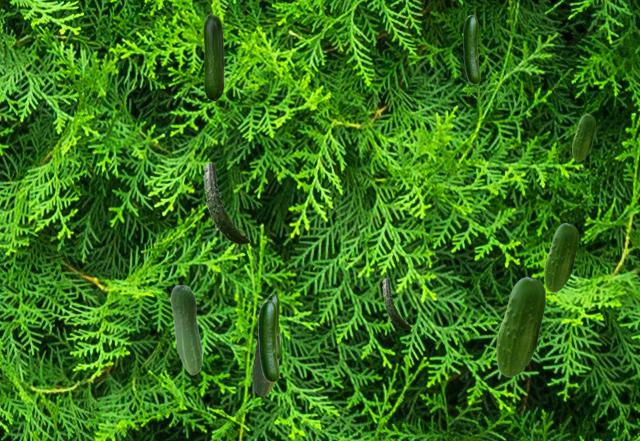cucumber: (496, 277, 544, 376), (203, 162, 249, 243), (170, 284, 202, 374), (544, 223, 577, 291), (203, 14, 223, 100), (258, 300, 278, 381), (252, 338, 279, 395), (382, 278, 410, 328), (463, 15, 479, 83), (572, 114, 594, 160), (267, 294, 280, 358)
